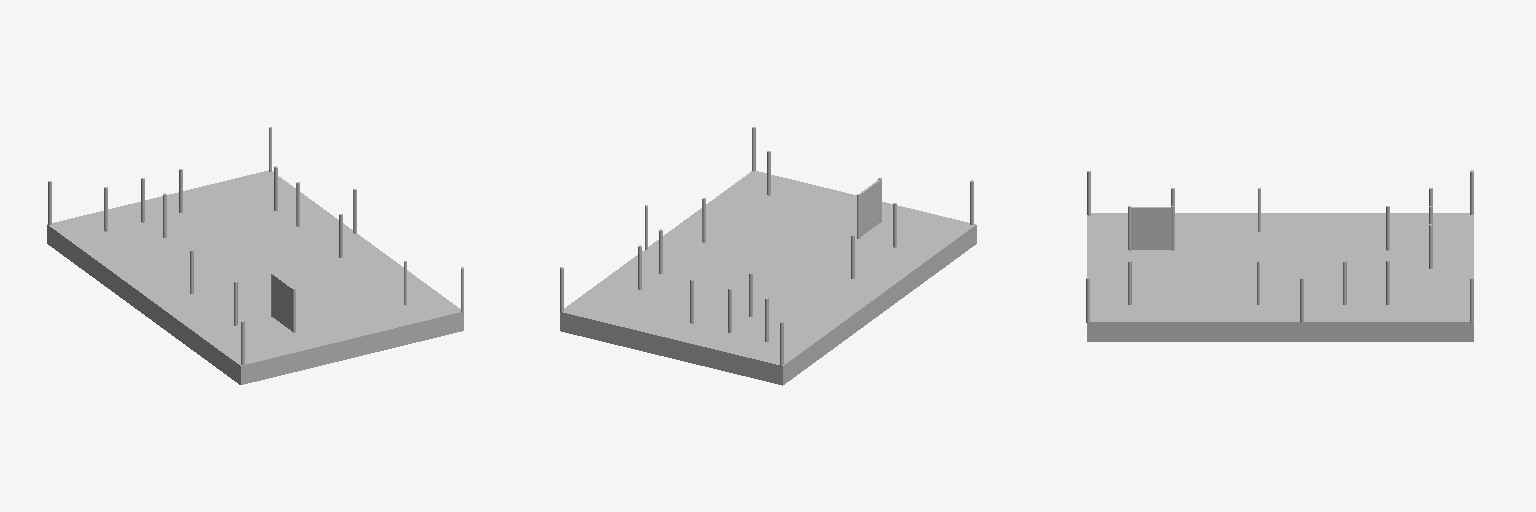
File: CourseWork.obj
3 renders of one model, left to right at view 1: azimuth 30°, elevation 25°; view 2: azimuth 150°, elevation 25°; view 3: azimuth 270°, elevation 25°, orthographic.
Parts seen in each view (by area): view 1: Cube.001; view 2: Cube.001; view 3: Cube.001.
Part boxes in pixels (left/top/right/bottom): Cube.001: left=47, top=127, right=463, bottom=384; Cube.001: left=560, top=127, right=976, bottom=385; Cube.001: left=1086, top=170, right=1473, bottom=341.
Size of the model in its own units: 12.03 by 3.23 by 18.04.